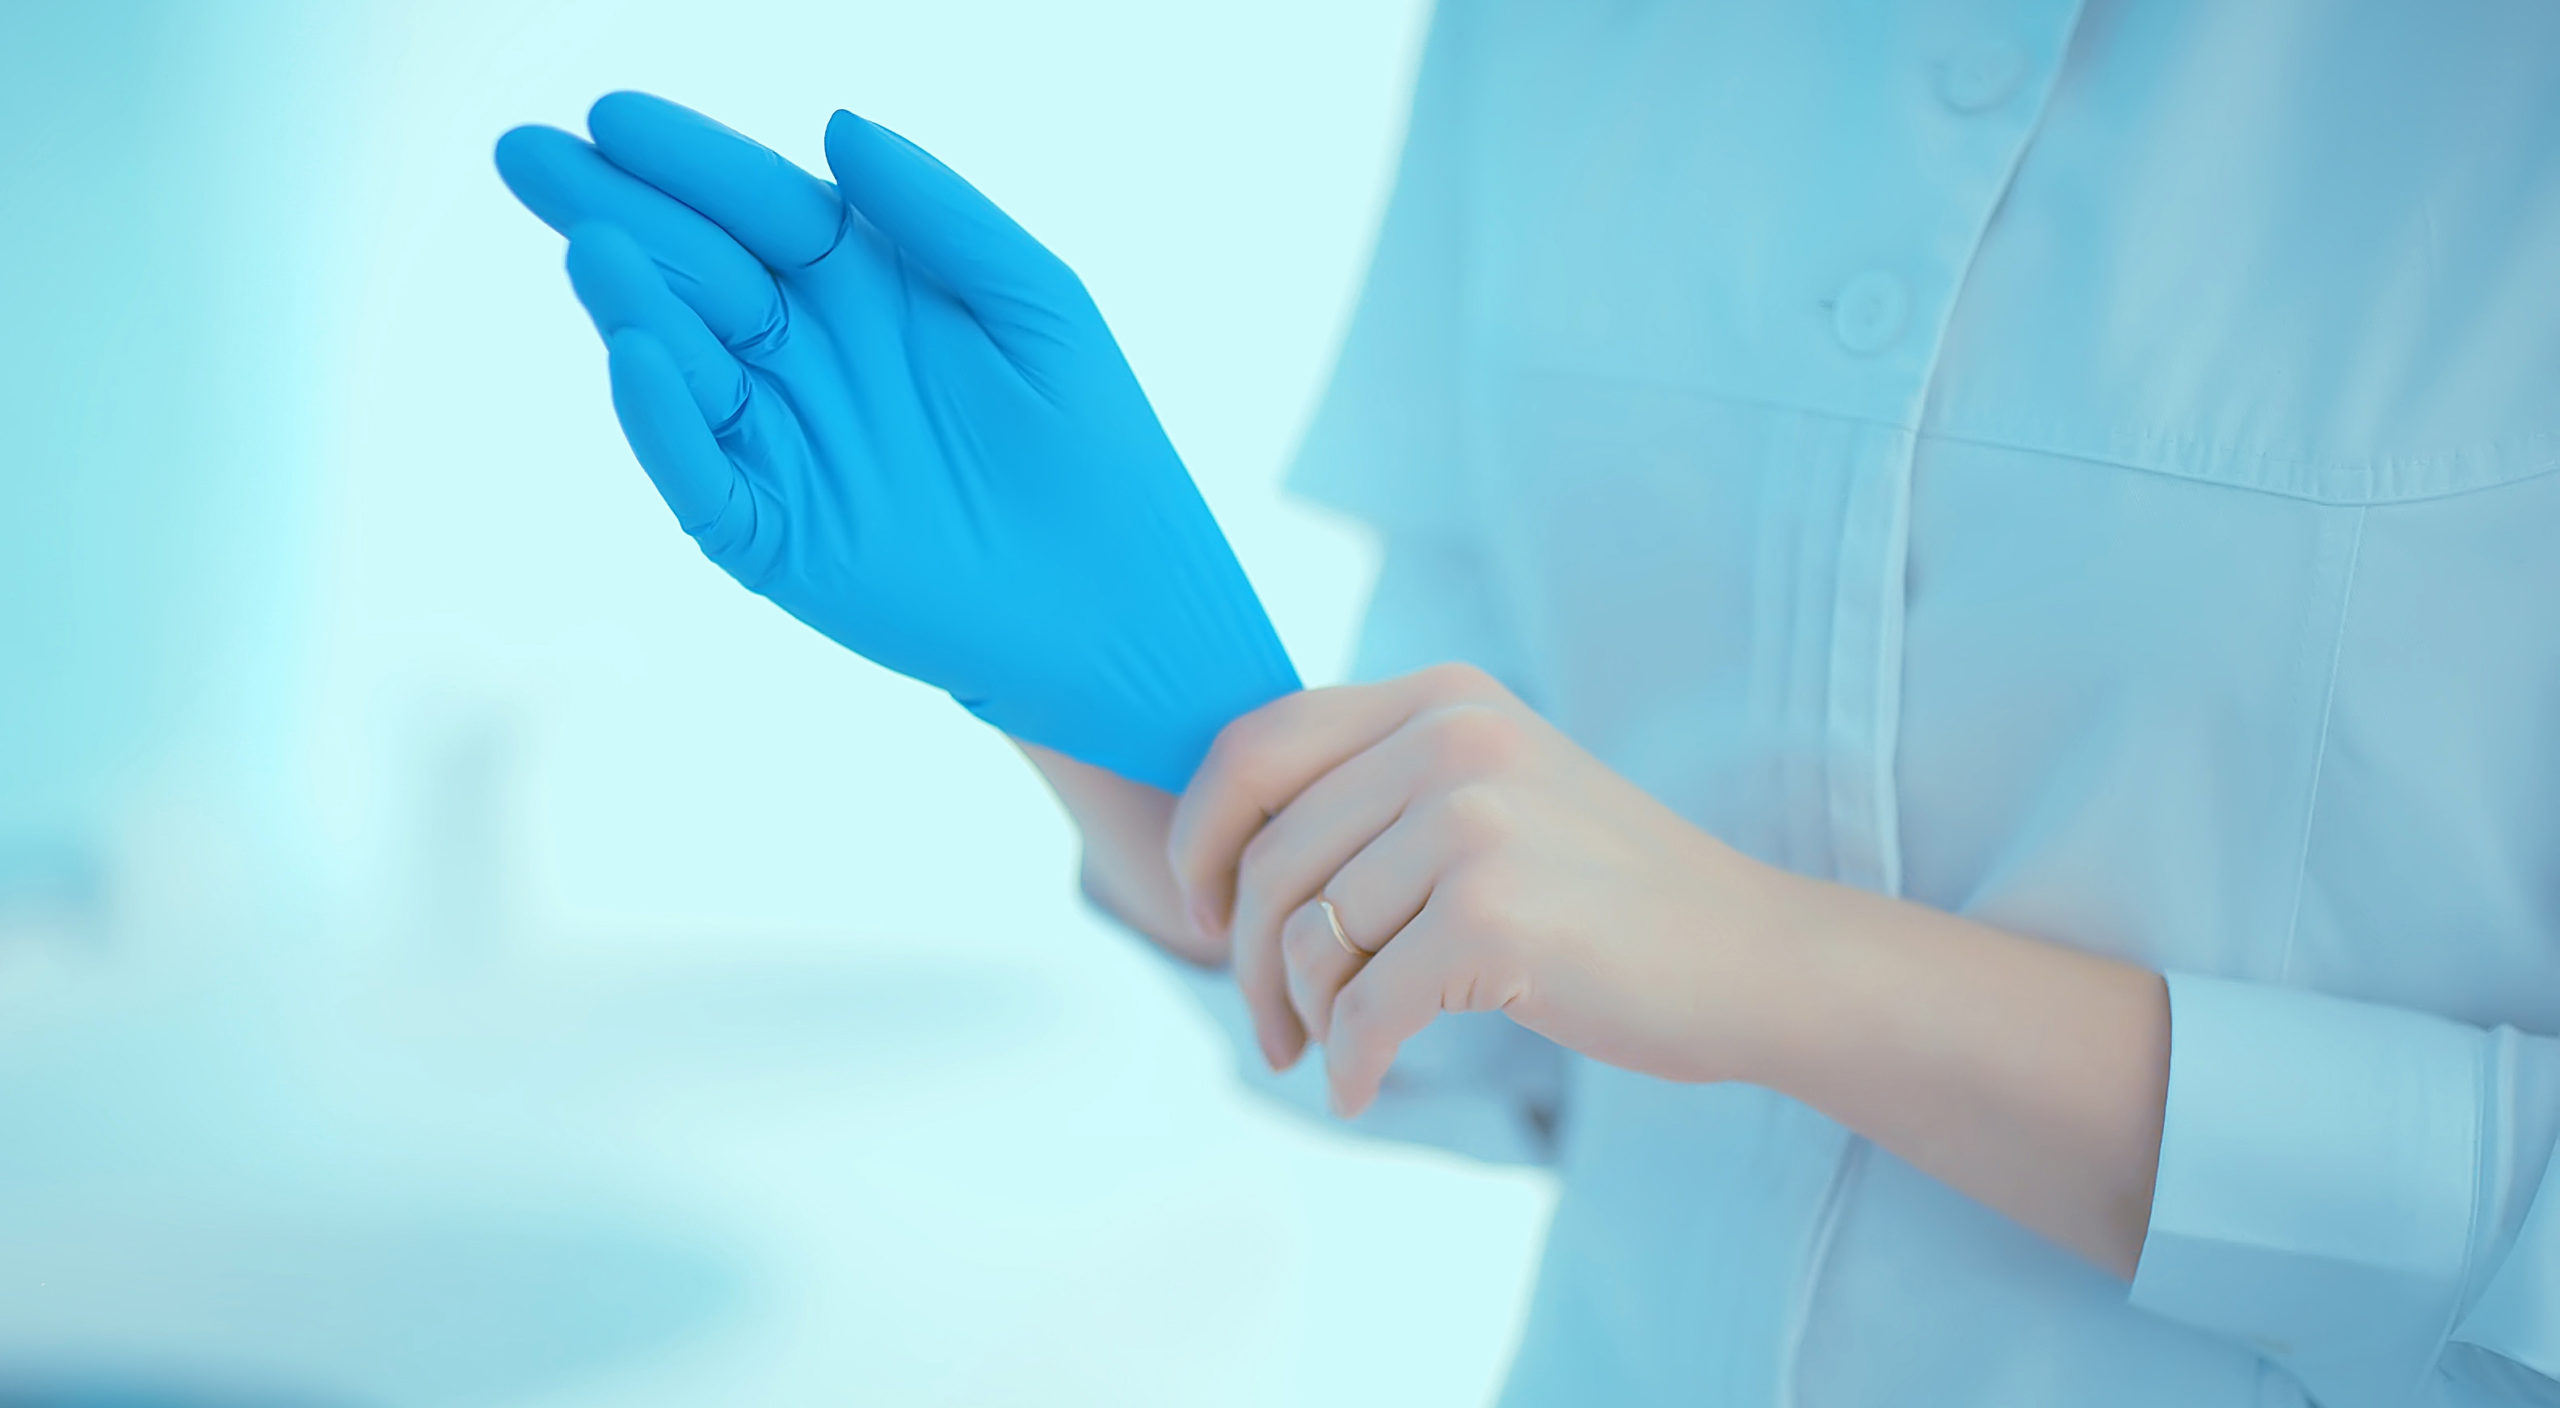glove: (491, 90, 1196, 744)
hand: (1161, 654, 1763, 1124)
